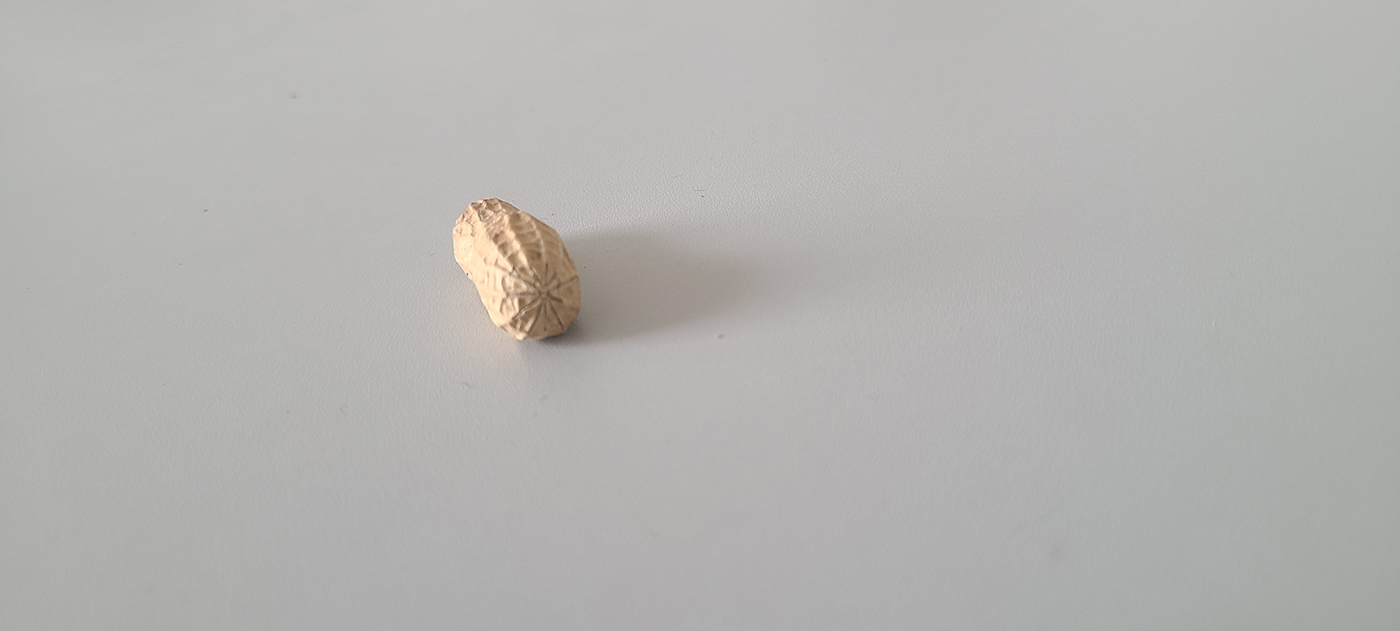h: (448, 192, 581, 344)
